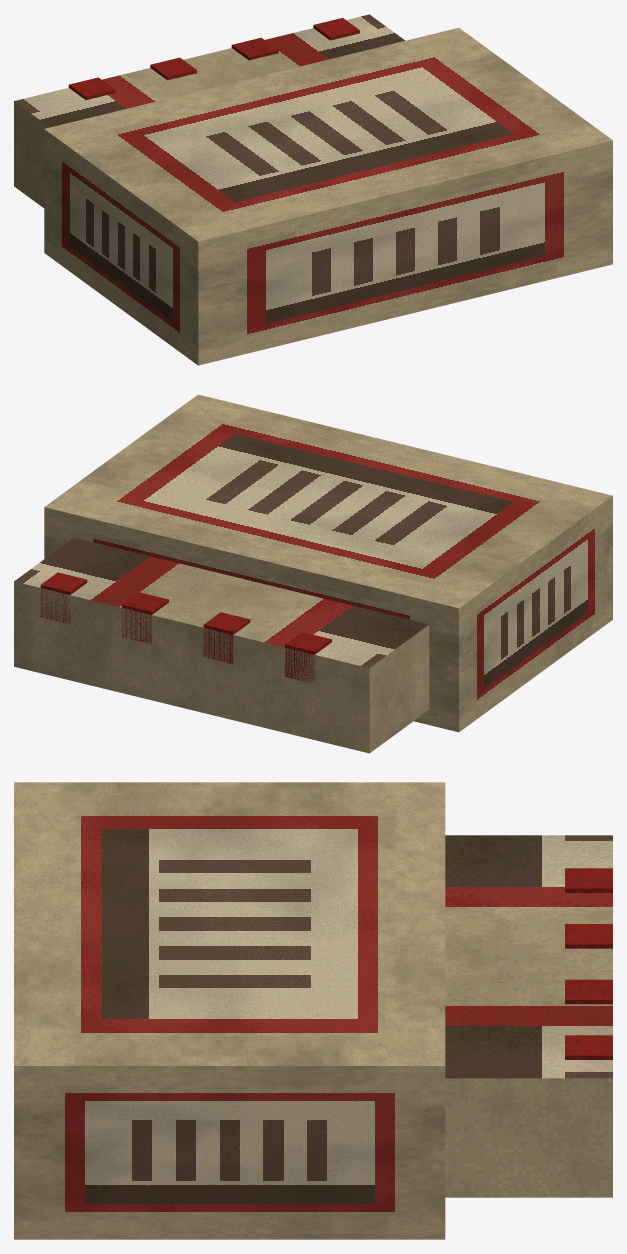
File: matches.glb
3 renders of one model, top to bottom at view 1: azimuth 30°, elevation 25°; view 2: azimuth 150°, elevation 25°; view 3: azimuth 270°, elevation 25°, orthographic. The views are drawn at different scales.
Visible parts, largest first — view 1: matches; view 2: matches; view 3: matches.
Part boxes in pixels (left/top/right/bottom): matches: left=14, top=14, right=612, bottom=365; matches: left=14, top=394, right=612, bottom=753; matches: left=14, top=782, right=612, bottom=1239.
Size of the model in its own units: 0.056 by 0.016 by 0.05.
3 materials, 3 textured.
